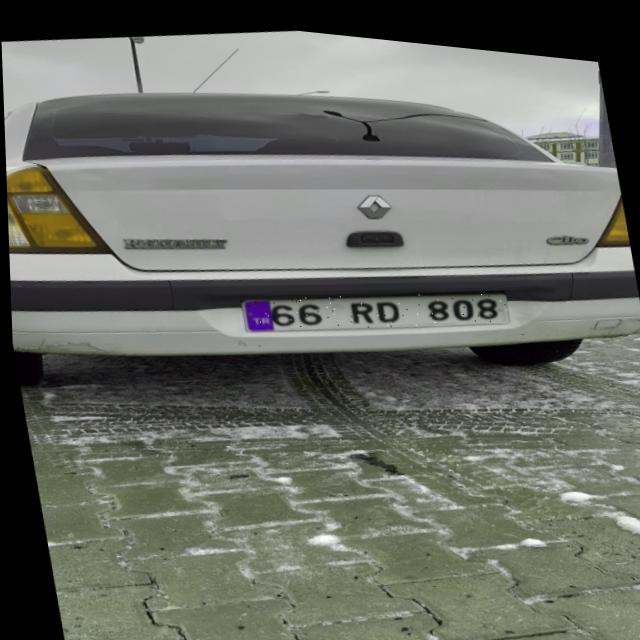license_plate: (237, 258, 510, 349)
